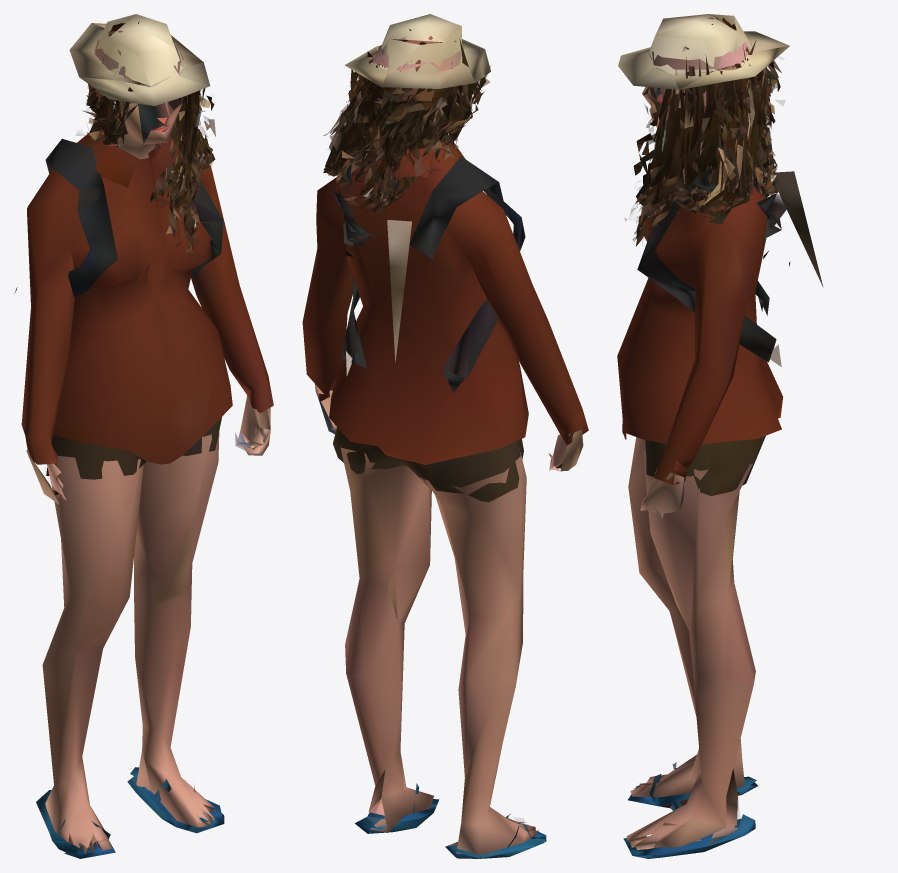
3 renders of one model, left to right at view 1: azimuth 30°, elevation 25°; view 2: azimuth 150°, elevation 25°; view 3: azimuth 270°, elevation 25°, orthographic. The views are drawn at different scales.
Visible parts, largest first — view 1: p02079; view 2: p02079; view 3: p02079.
Boxes of the visible parts, <box> form: p02079: <box>14,14,273,858</box>; p02079: <box>302,14,588,858</box>; p02079: <box>617,14,823,858</box>.
Bounding box in the file's own units: 0.5851 × 1.76 × 0.5207.
1 material, 1 textured.
